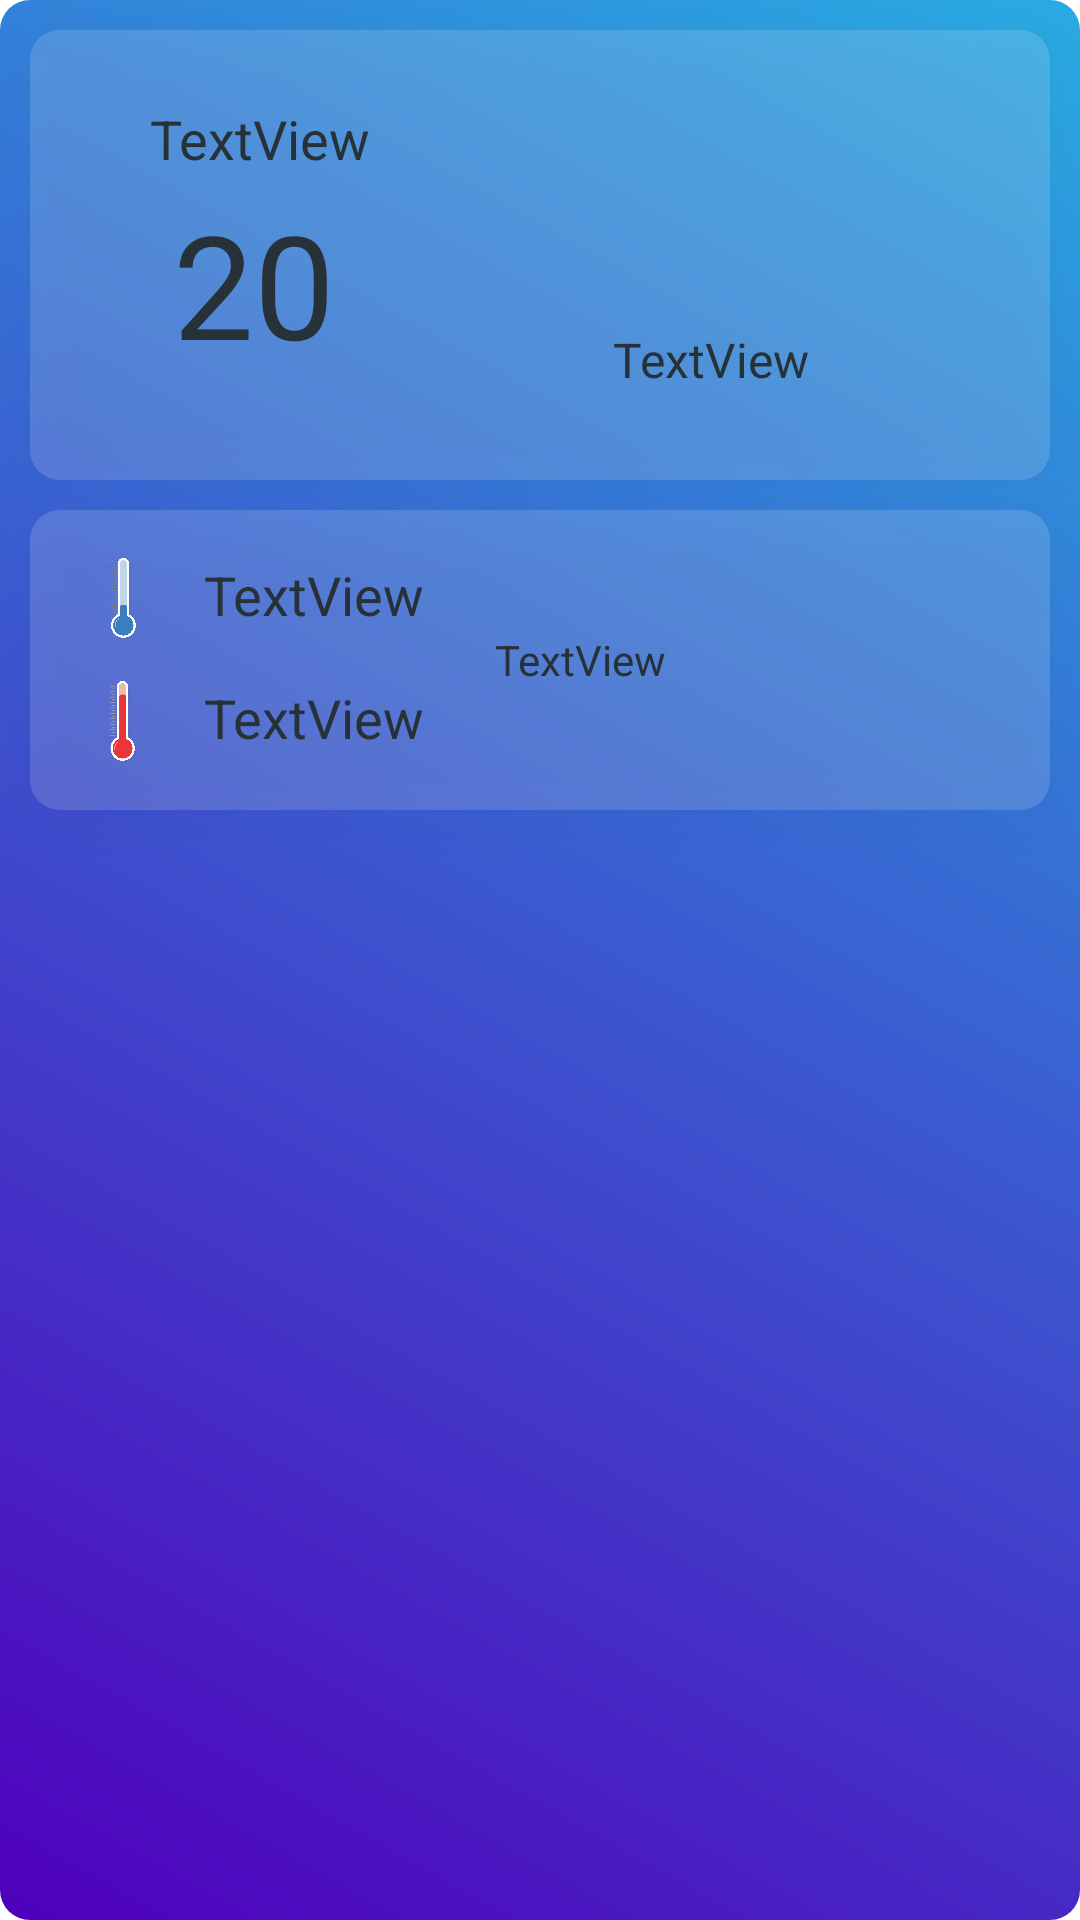

Icon bounding boxes for this 1080 × 1920 phone screenshot, format Rect(x1, y1, x2, y2):
hot: Rect(110, 681, 135, 762)
